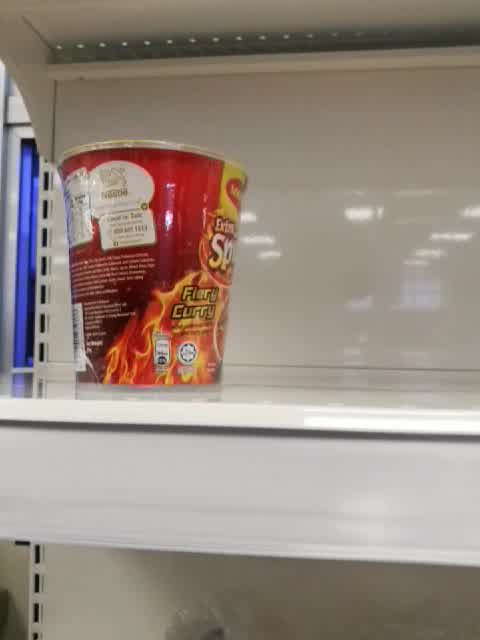maggi: (56, 137, 251, 392)
